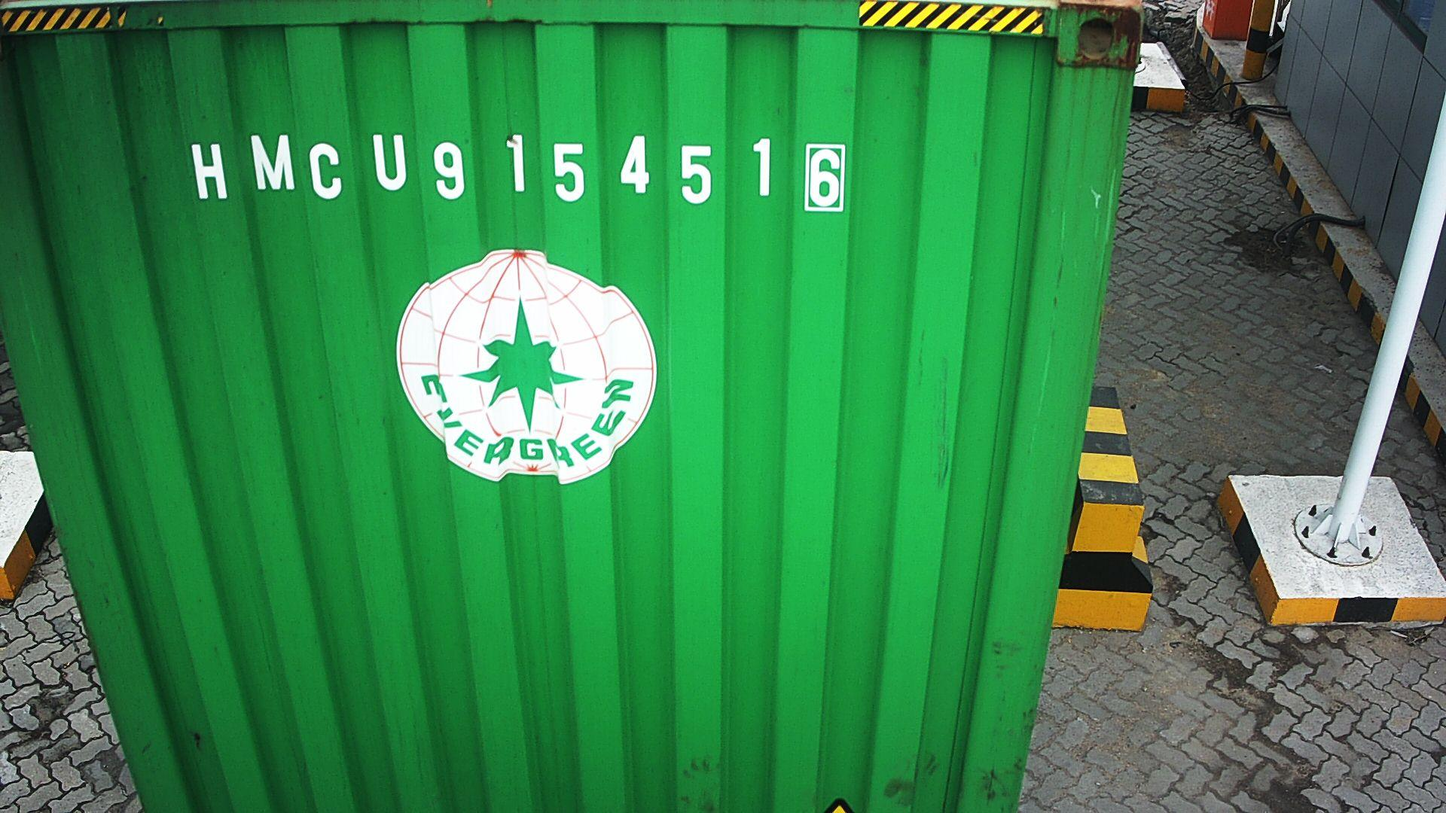container-numbers: (183, 126, 853, 218)
